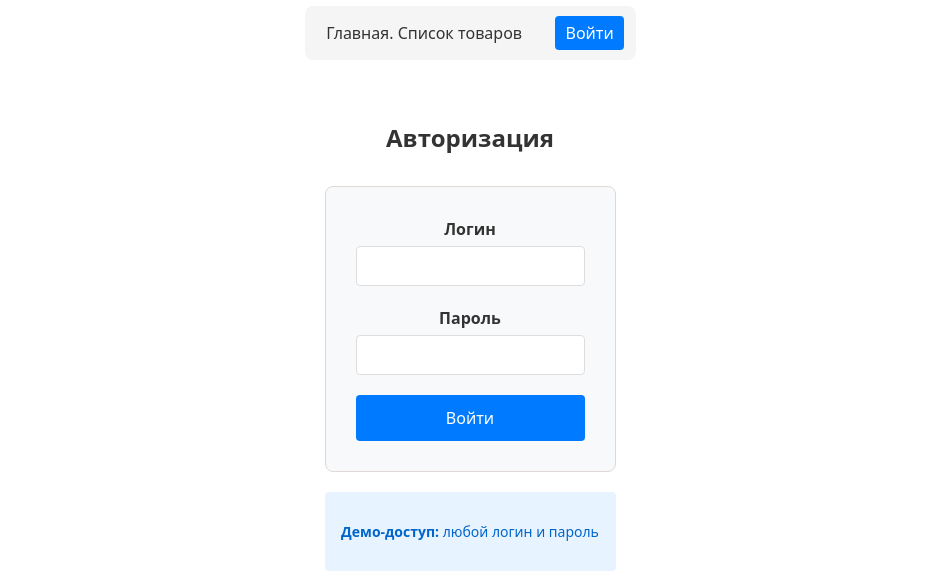
Test: Авторизация › должна показывать сообщение об успехе
Type "anyuser" into the field named "authLogin" at [471, 266], box [356,246,585,286]
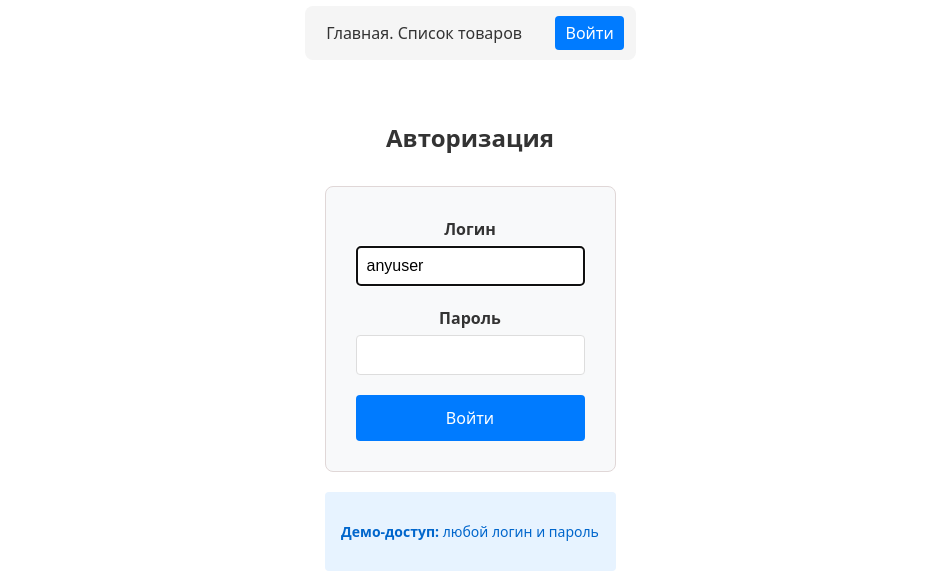
Type "anypassword" into the password field named "authPassword" at [471, 355], box [356,335,585,375]
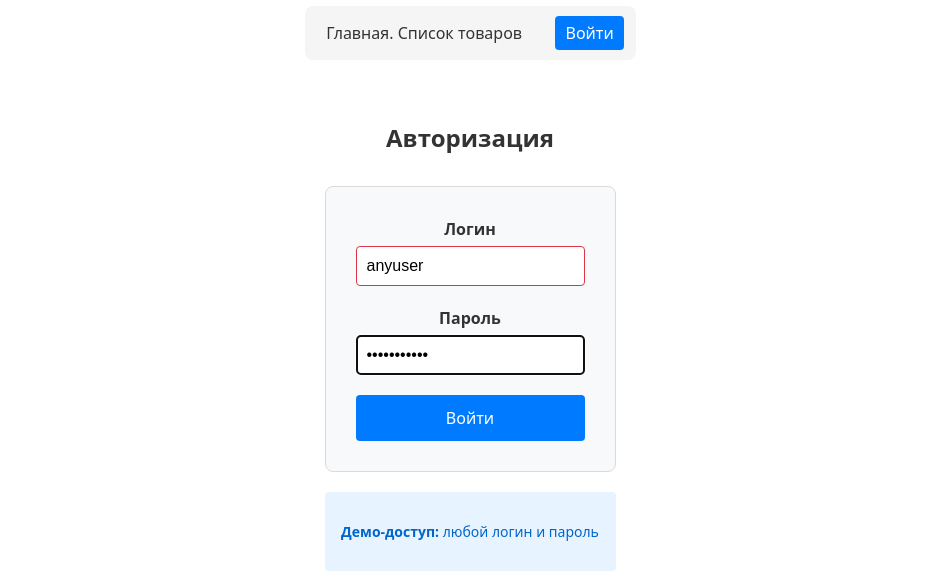
Click the submit button at [471, 418], box [356,395,585,441]
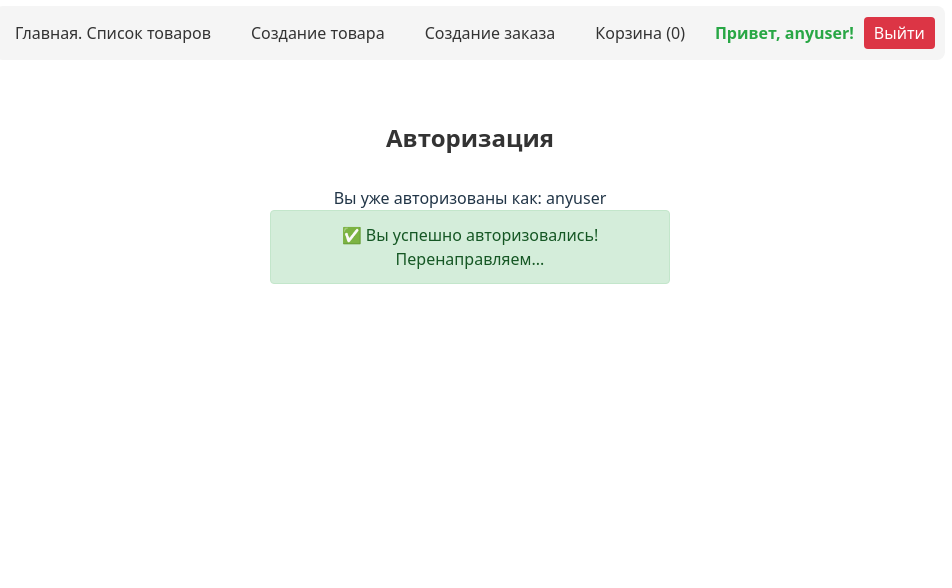
Check: the text with class "success-message" shows "Вы успешно авторизовались", box [270,210,670,284]
